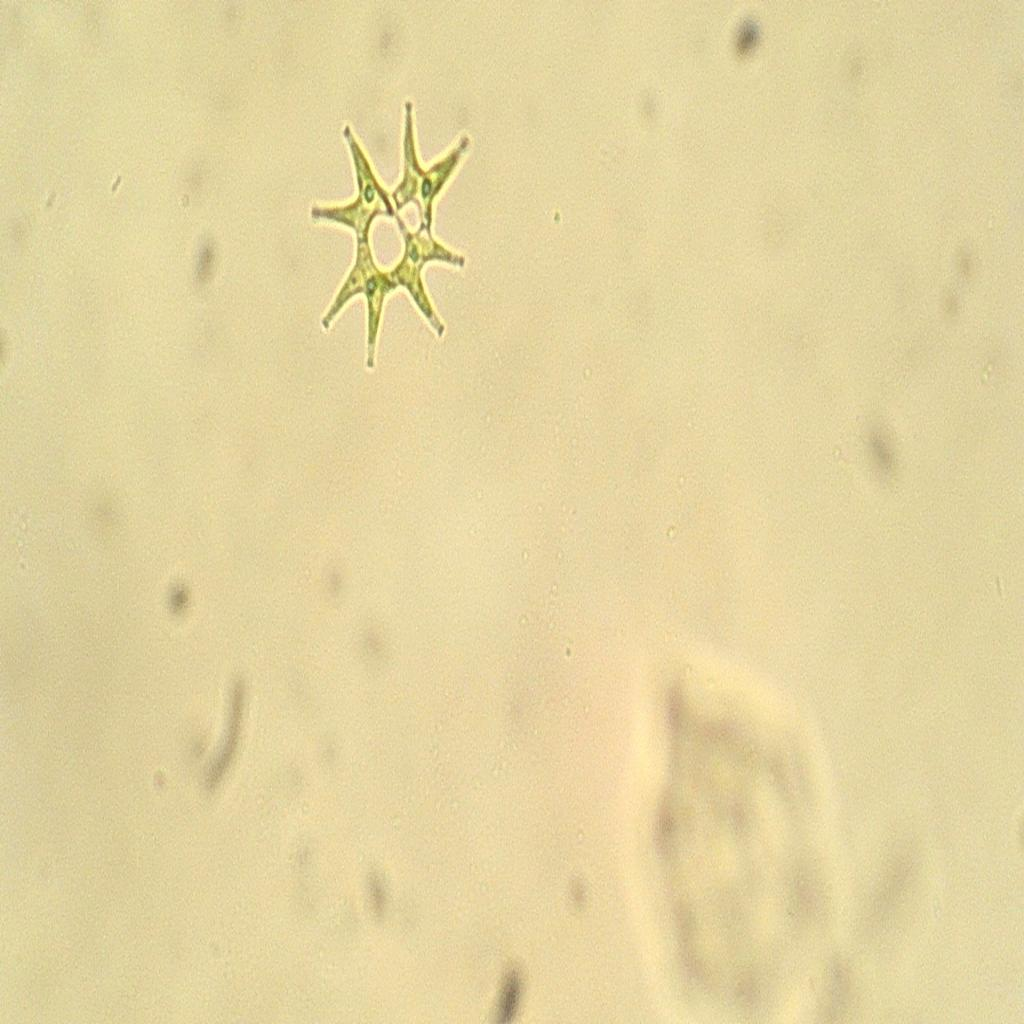Pediastrum_75FO: (290, 73, 486, 387)
